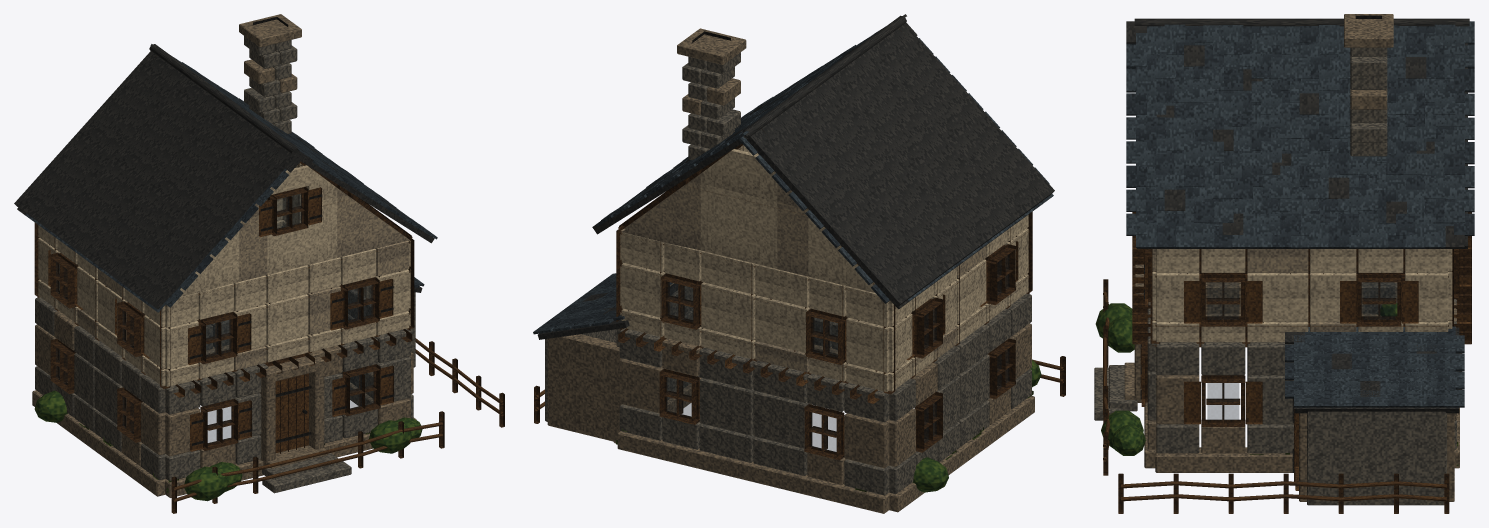
File: medieval_rectory_house_3d_runtime.glb
The picture shows the model from 3 angles, left to right: view 1: azimuth 30°, elevation 25°; view 2: azimuth 150°, elevation 25°; view 3: azimuth 270°, elevation 25°; orthographic projection. The views are drawn at different scales.
Parts seen in each view (by area): view 1: RUNTIME_BATCH_035_MAT_RECTORY_SLATE_WEATHERED, RUNTIME_BATCH_014_MAT_RECTORY_PLASTER_AGED, RUNTIME_BATCH_016_MAT_RECTORY_STONE_DARK, RUNTIME_BATCH_012_MAT_RECTORY_STONE_DARK, RUNTIME_BATCH_018_MAT_RECTORY_PLASTER_AGED, RUNTIME_BATCH_013_MAT_RECTORY_STONE_WARM, RUNTIME_BATCH_020_MAT_RECTORY_PLASTER_AGED, RUNTIME_BATCH_001_MAT_RECTORY_OAK_DARK, RUNTIME_BATCH_021_MAT_RECTORY_PLASTER_WORN, RUNTIME_BATCH_002_MAT_RECTORY_OAK_DARK, RUNTIME_BATCH_040_MAT_RECTORY_GARDEN_LEAF, RUNTIME_BATCH_000_MAT_RECTORY_STONE_WARM (+25 smaller); view 2: RUNTIME_BATCH_035_MAT_RECTORY_SLATE_WEATHERED, RUNTIME_BATCH_018_MAT_RECTORY_PLASTER_AGED, RUNTIME_BATCH_016_MAT_RECTORY_STONE_DARK, RUNTIME_BATCH_000_MAT_RECTORY_STONE_WARM, RUNTIME_BATCH_022_MAT_RECTORY_PLASTER_AGED, RUNTIME_BATCH_017_MAT_RECTORY_STONE_WARM, RUNTIME_BATCH_002_MAT_RECTORY_OAK_DARK, RUNTIME_BATCH_028_MAT_RECTORY_OAK_DARK, RUNTIME_BATCH_023_MAT_RECTORY_PLASTER_WORN, RUNTIME_BATCH_036_MAT_RECTORY_BLUE_SLATE_A, RUNTIME_BATCH_010_MAT_RECTORY_STONE_DARK, RUNTIME_BATCH_037_MAT_RECTORY_BLUE_SLATE_B (+10 smaller); view 3: RUNTIME_BATCH_036_MAT_RECTORY_BLUE_SLATE_A, RUNTIME_BATCH_037_MAT_RECTORY_BLUE_SLATE_B, RUNTIME_BATCH_018_MAT_RECTORY_PLASTER_AGED, RUNTIME_BATCH_034_MAT_RECTORY_STONE_DARK, RUNTIME_BATCH_016_MAT_RECTORY_STONE_DARK, RUNTIME_BATCH_035_MAT_RECTORY_SLATE_WEATHERED, RUNTIME_BATCH_002_MAT_RECTORY_OAK_DARK, RUNTIME_BATCH_000_MAT_RECTORY_STONE_WARM, RUNTIME_BATCH_017_MAT_RECTORY_STONE_WARM, RUNTIME_BATCH_010_MAT_RECTORY_STONE_DARK, RUNTIME_BATCH_006_MAT_RECTORY_OAK_MID, RUNTIME_BATCH_040_MAT_RECTORY_GARDEN_LEAF (+18 smaller).
Part boxes in pixels (x1=…): RUNTIME_BATCH_035_MAT_RECTORY_SLATE_WEATHERED: x1=14, y1=51, x2=434, y2=309; RUNTIME_BATCH_014_MAT_RECTORY_PLASTER_AGED: x1=165, y1=248, x2=409, y2=386; RUNTIME_BATCH_016_MAT_RECTORY_STONE_DARK: x1=35, y1=289, x2=413, y2=479; RUNTIME_BATCH_012_MAT_RECTORY_STONE_DARK: x1=164, y1=329, x2=410, y2=480; RUNTIME_BATCH_018_MAT_RECTORY_PLASTER_AGED: x1=38, y1=163, x2=410, y2=386; RUNTIME_BATCH_013_MAT_RECTORY_STONE_WARM: x1=164, y1=345, x2=410, y2=468; RUNTIME_BATCH_020_MAT_RECTORY_PLASTER_AGED: x1=180, y1=165, x2=337, y2=296; RUNTIME_BATCH_001_MAT_RECTORY_OAK_DARK: x1=160, y1=235, x2=414, y2=393; RUNTIME_BATCH_021_MAT_RECTORY_PLASTER_WORN: x1=239, y1=188, x2=410, y2=281; RUNTIME_BATCH_002_MAT_RECTORY_OAK_DARK: x1=34, y1=164, x2=413, y2=388; RUNTIME_BATCH_040_MAT_RECTORY_GARDEN_LEAF: x1=34, y1=390, x2=422, y2=501; RUNTIME_BATCH_000_MAT_RECTORY_STONE_WARM: x1=32, y1=345, x2=416, y2=497; RUNTIME_BATCH_035_MAT_RECTORY_SLATE_WEATHERED: x1=537, y1=14, x2=1054, y2=339; RUNTIME_BATCH_018_MAT_RECTORY_PLASTER_AGED: x1=620, y1=145, x2=1028, y2=391; RUNTIME_BATCH_016_MAT_RECTORY_STONE_DARK: x1=616, y1=286, x2=1031, y2=495; RUNTIME_BATCH_000_MAT_RECTORY_STONE_WARM: x1=547, y1=334, x2=1034, y2=513; RUNTIME_BATCH_022_MAT_RECTORY_PLASTER_AGED: x1=700, y1=149, x2=874, y2=292; RUNTIME_BATCH_017_MAT_RECTORY_STONE_WARM: x1=619, y1=302, x2=1031, y2=484; RUNTIME_BATCH_002_MAT_RECTORY_OAK_DARK: x1=616, y1=145, x2=1031, y2=399; RUNTIME_BATCH_028_MAT_RECTORY_OAK_DARK: x1=659, y1=338, x2=1015, y2=460; RUNTIME_BATCH_023_MAT_RECTORY_PLASTER_WORN: x1=620, y1=174, x2=808, y2=276; RUNTIME_BATCH_036_MAT_RECTORY_BLUE_SLATE_A: x1=533, y1=27, x2=1053, y2=334; RUNTIME_BATCH_010_MAT_RECTORY_STONE_DARK: x1=682, y1=52, x2=740, y2=159; RUNTIME_BATCH_037_MAT_RECTORY_BLUE_SLATE_B: x1=543, y1=43, x2=1043, y2=327; RUNTIME_BATCH_036_MAT_RECTORY_BLUE_SLATE_A: x1=1126, y1=21, x2=1474, y2=407; RUNTIME_BATCH_037_MAT_RECTORY_BLUE_SLATE_B: x1=1126, y1=26, x2=1474, y2=407; RUNTIME_BATCH_018_MAT_RECTORY_PLASTER_AGED: x1=1156, y1=249, x2=1452, y2=342; RUNTIME_BATCH_034_MAT_RECTORY_STONE_DARK: x1=1307, y1=407, x2=1446, y2=505; RUNTIME_BATCH_016_MAT_RECTORY_STONE_DARK: x1=1156, y1=282, x2=1456, y2=453; RUNTIME_BATCH_035_MAT_RECTORY_SLATE_WEATHERED: x1=1126, y1=21, x2=1467, y2=413; RUNTIME_BATCH_002_MAT_RECTORY_OAK_DARK: x1=1151, y1=212, x2=1471, y2=347; RUNTIME_BATCH_000_MAT_RECTORY_STONE_WARM: x1=1144, y1=313, x2=1459, y2=501; RUNTIME_BATCH_017_MAT_RECTORY_STONE_WARM: x1=1156, y1=282, x2=1456, y2=453; RUNTIME_BATCH_010_MAT_RECTORY_STONE_DARK: x1=1350, y1=47, x2=1387, y2=156; RUNTIME_BATCH_006_MAT_RECTORY_OAK_MID: x1=1184, y1=240, x2=1471, y2=323; RUNTIME_BATCH_040_MAT_RECTORY_GARDEN_LEAF: x1=1095, y1=303, x2=1397, y2=455.
Bounding box in the file's own units: 10.39 × 10.08 × 8.28.
Materials: 13 (13 with a texture image).
